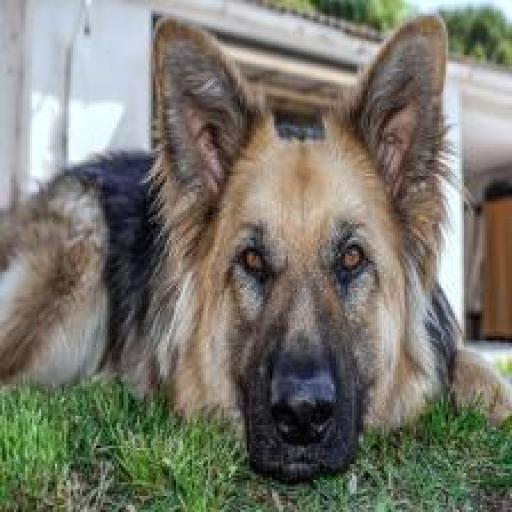wolf: (0, 11, 512, 487)
